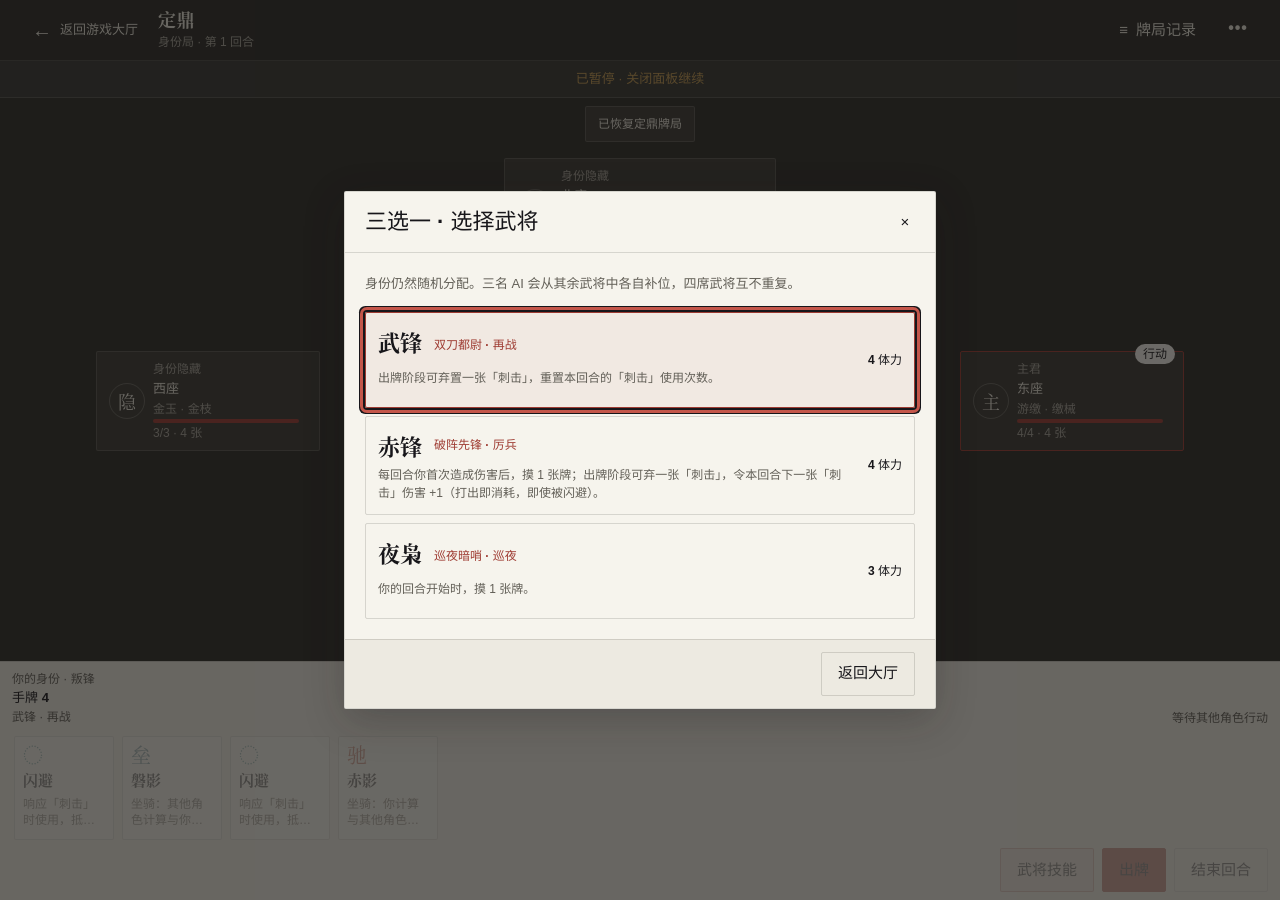
Test: DingDingGame active skill flow › shows the hero draft and starts the match after choosing a hero
This screenshot has width=1280, height=900.
Expected: the heading "三选一 · 选择武将" is shown, top-left (365, 209), bottom-right (539, 236)
Press the mouse on the element with class "cf-dialog-backdrop" at [640, 450], box top-left (0, 0), bottom-right (1279, 899)
Click the button with aria-label "选择武将". click: [640, 465]
box: top-left (365, 416), bottom-right (915, 514)
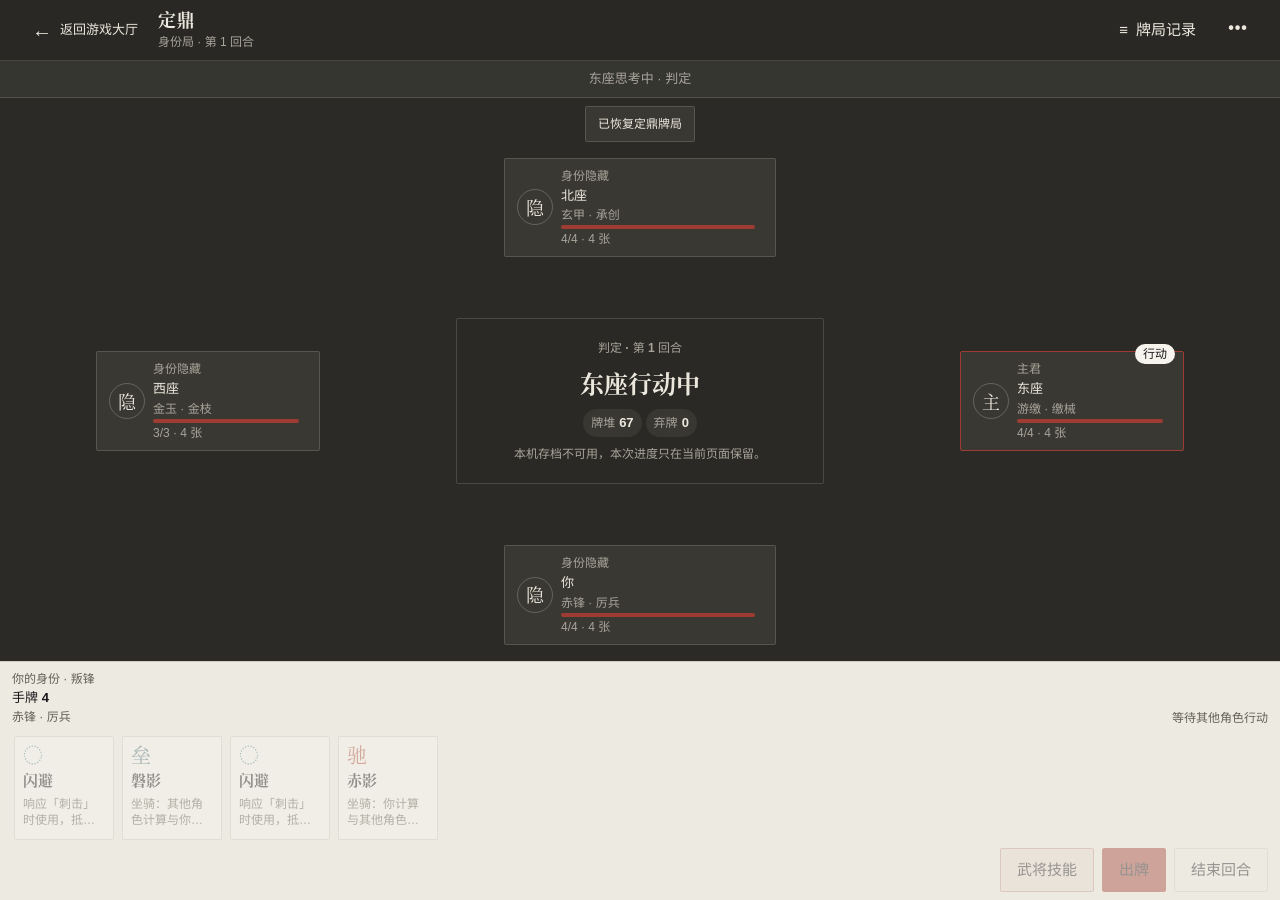
Expected: the heading "三选一 · 选择武将" is gone
